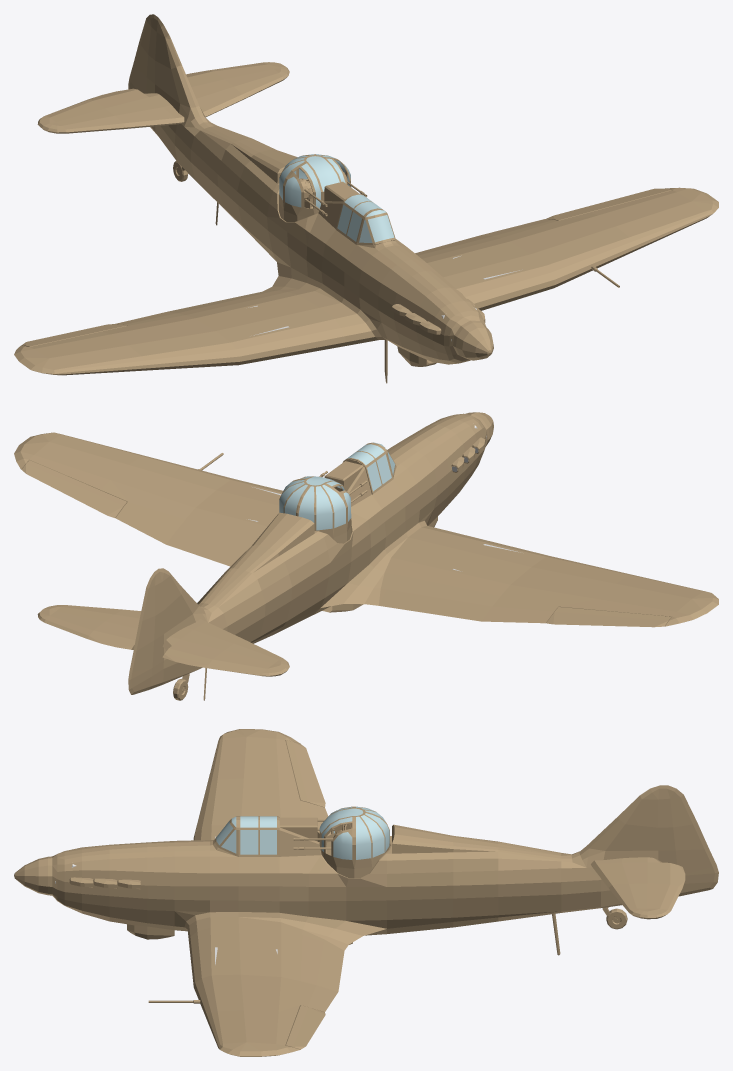
Rendered from Defiant.fbx.
3 renders of one model, top to bottom at view 1: azimuth 30°, elevation 25°; view 2: azimuth 150°, elevation 25°; view 3: azimuth 270°, elevation 25°, orthographic. The views are drawn at different scales.
Parts seen in each view (by area): view 1: Defiant Fuselage, Defiant Nose, Defiant Right Wing Base, Defiant Left Wing Base, Defiant Left Wing Center, Defiant Right Wing Center, Defiant Left Wing Tip, Defiant Right Wing Tip, Defiant Tail, Defiant Right Stabilizer, Defiant Left Stabilizer, Defiant Tail Tip (+12 smaller); view 2: Defiant Fuselage, Defiant Right Wing Base, Defiant Left Wing Center, Defiant Left Wing Base, Defiant Right Wing Center, Defiant Tail, Defiant Nose, Defiant Left Wing Tip, Defiant Right Wing Tip, Defiant Rudder, Defiant Turret Glass, Defiant Right Elevator (+11 smaller); view 3: Defiant Fuselage, Defiant Nose, Defiant Tail, Defiant Left Wing Base, Defiant Left Wing Center, Defiant Right Wing Center, Defiant Rudder, Defiant Right Wing Tip, Defiant Left Wing Tip, Defiant Tail Tip, Defiant Fin, Defiant Turret Glass (+9 smaller).
Part boxes in pixels (bbox=[...]): Defiant Fuselage: bbox=[237, 161, 423, 383]; Defiant Nose: bbox=[378, 259, 486, 366]; Defiant Right Wing Base: bbox=[167, 290, 345, 364]; Defiant Left Wing Base: bbox=[415, 235, 555, 310]; Defiant Left Wing Center: bbox=[482, 212, 634, 287]; Defiant Right Wing Center: bbox=[102, 312, 240, 370]; Defiant Left Wing Tip: bbox=[589, 187, 718, 251]; Defiant Right Wing Tip: bbox=[14, 331, 147, 375]; Defiant Tail: bbox=[191, 126, 251, 229]; Defiant Right Stabilizer: bbox=[56, 93, 184, 133]; Defiant Left Stabilizer: bbox=[191, 69, 283, 116]; Defiant Tail Tip: bbox=[155, 84, 217, 179]; Defiant Fuselage: bbox=[245, 442, 450, 634]; Defiant Right Wing Base: bbox=[379, 531, 550, 621]; Defiant Left Wing Center: bbox=[102, 453, 234, 544]; Defiant Left Wing Base: bbox=[166, 479, 282, 566]; Defiant Right Wing Center: bbox=[481, 556, 631, 623]; Defiant Tail: bbox=[197, 552, 292, 643]; Defiant Nose: bbox=[391, 413, 487, 527]; Defiant Left Wing Tip: bbox=[14, 432, 144, 491]; Defiant Right Wing Tip: bbox=[589, 574, 718, 626]; Defiant Rudder: bbox=[128, 568, 170, 694]; Defiant Turret Glass: bbox=[279, 476, 351, 530]; Defiant Right Elevator: bbox=[162, 639, 289, 676]; Defiant Fuselage: bbox=[174, 816, 453, 950]; Defiant Nose: bbox=[52, 841, 174, 939]; Defiant Tail: bbox=[453, 841, 561, 927]; Defiant Left Wing Base: bbox=[189, 927, 344, 991]; Defiant Left Wing Center: bbox=[148, 974, 337, 1018]; Defiant Right Wing Center: bbox=[194, 778, 331, 835]; Defiant Rudder: bbox=[637, 785, 718, 896]; Defiant Right Wing Tip: bbox=[207, 729, 300, 784]; Defiant Left Wing Tip: bbox=[206, 1010, 300, 1056]; Defiant Tail Tip: bbox=[561, 846, 658, 912]; Defiant Fin: bbox=[587, 798, 658, 850]; Defiant Turret Glass: bbox=[319, 806, 389, 859].
Size of what is drawn, in the model's own units: 1135 by 313 by 1033.
